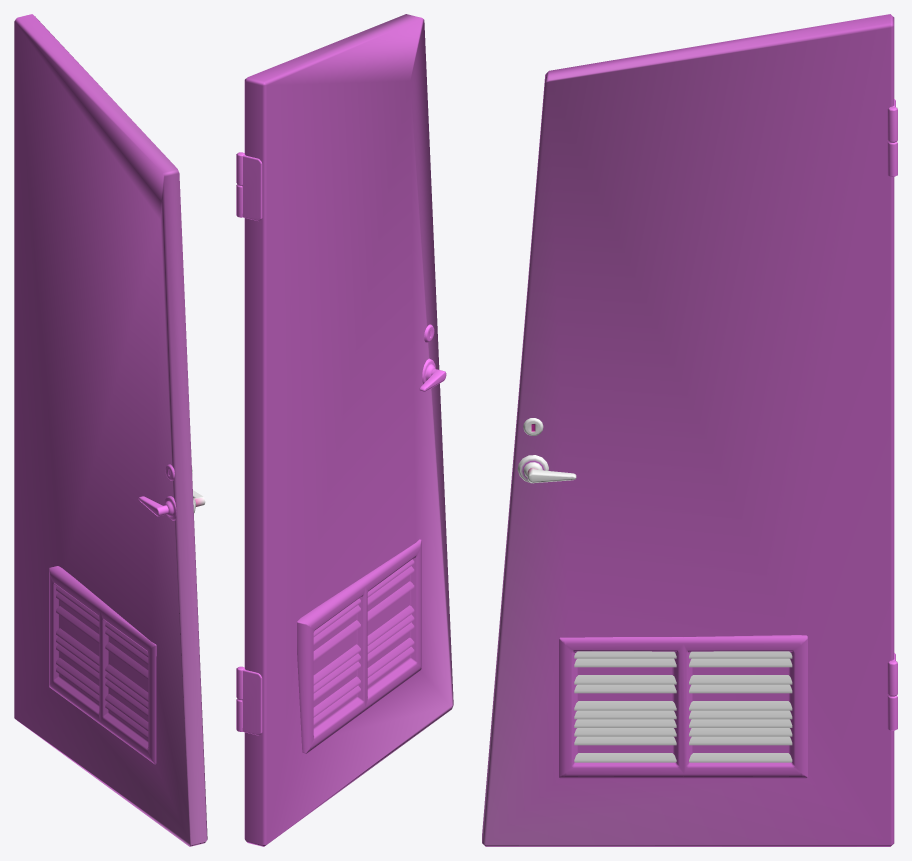
File: SM_DoorBasementEtat1_A.fbx
3 views of the same model, side by side, from view 1: azimuth 30°, elevation 25°; view 2: azimuth 150°, elevation 25°; view 3: azimuth 270°, elevation 25° (orthographic). The views are drawn at different scales.
Parts seen in each view (by area): view 1: SM_Door_Basement_A; view 2: SM_Door_Basement_A; view 3: SM_Door_Basement_A.
Boxes of the visible parts, x1,y1,x2,y2 form: SM_Door_Basement_A: (14,14,207,846); SM_Door_Basement_A: (236,14,453,846); SM_Door_Basement_A: (482,14,897,846).
Size of the model in its own units: 14.65 by 208 by 95.05.
